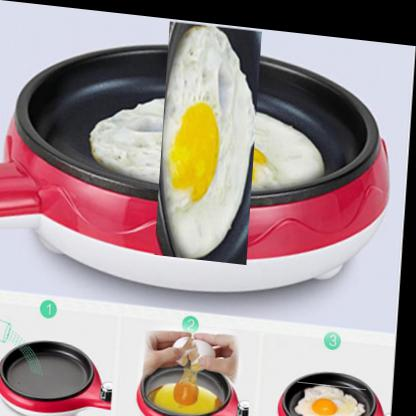egg: (124, 49, 297, 228), (149, 371, 229, 412), (299, 373, 372, 415)
